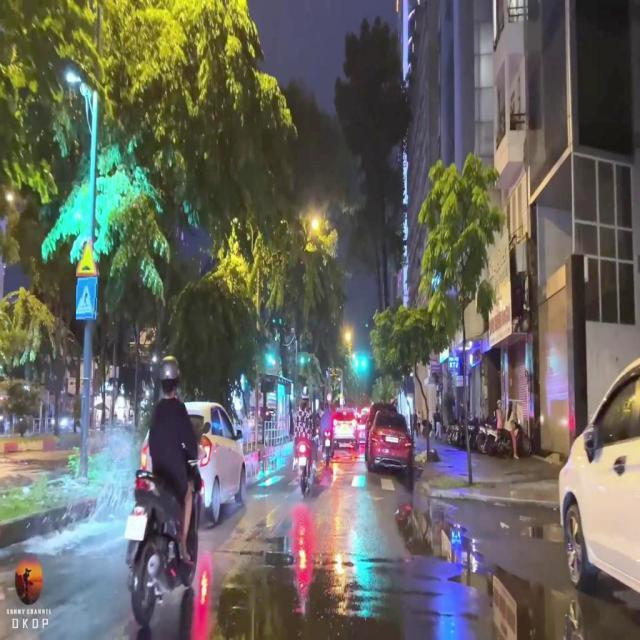221-duong-go-ghe: (76, 242, 100, 277)
224-duong-nguoi-di-bo-cat-ngang: (74, 278, 98, 320)
